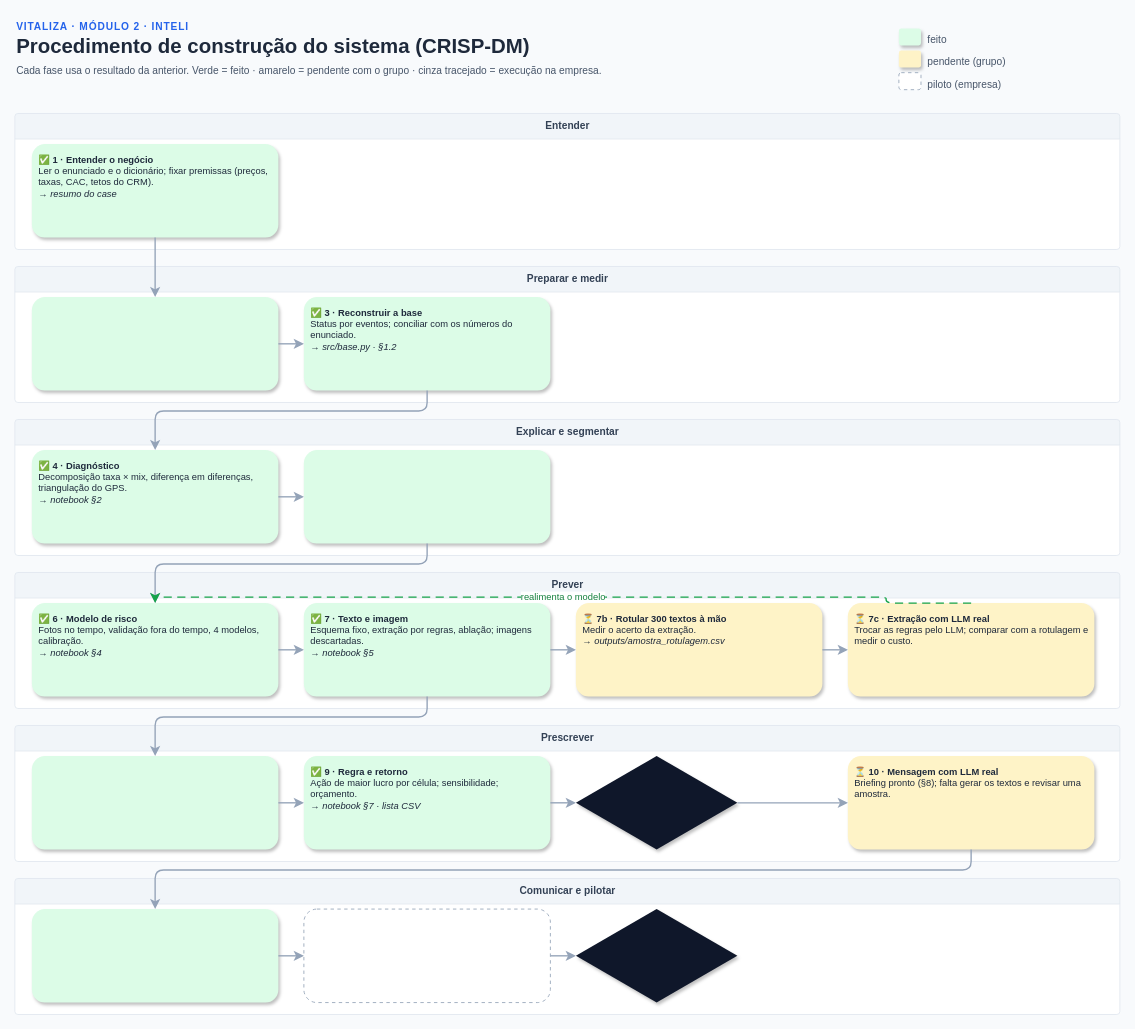
Some shapes in this 1135 by 1029 pixel diagram are drawn without their labels. The shapes that lost their labels are listed below. From the top down, each one's centre as x and y in pixels, then its label:
At (155,344): "✅ 2 · Qualidade dos dados Formatos, grafias, fusos, cortesias. → notebook §1.1".
At (427,497): "✅ 5 · Segmentação k-means com padronização e silhueta. → notebook §3".
At (155,803): "✅ 8 · Uplift da campanha Efeito por célula e mensagem, IC de 95%. → notebook §6".
At (657,803): "Grupo revisa e aprova a regra v1".
At (155,956): "✅ 11 · Documentos Análise detalhada, solução em uma página, plano v2.".
At (426,955): "🧪 12 · Piloto nov–dez Controle de 10%, testes de WhatsApp e CS, retreino mensal.".
At (657,956): "Semana 10: escalar, ajustar ou parar".
